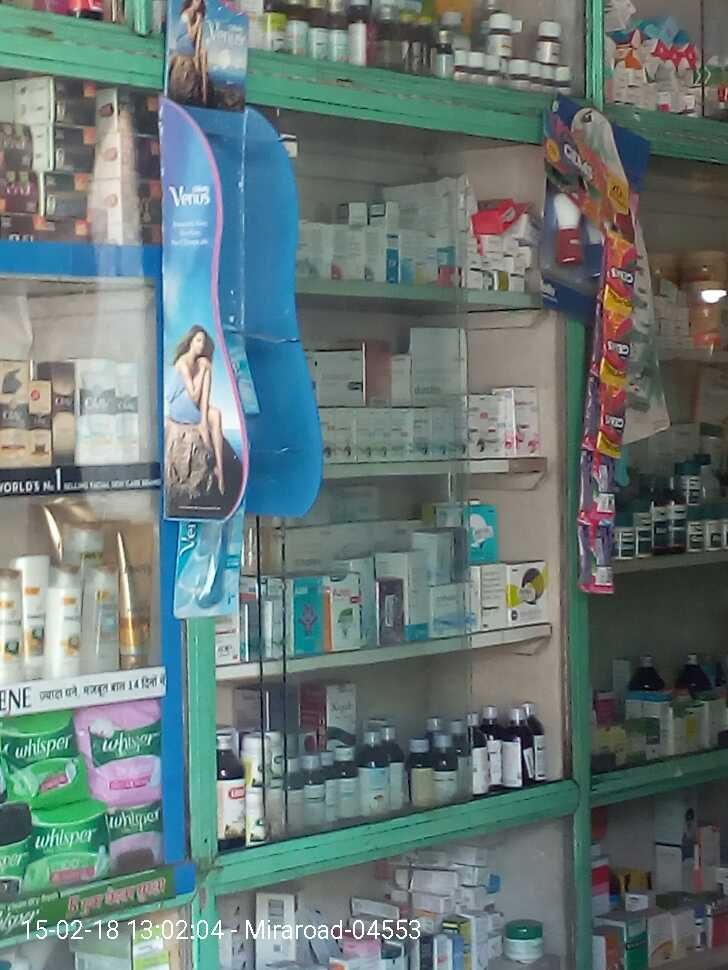beauty: (73, 354, 144, 475), (32, 357, 77, 468), (19, 559, 54, 681), (49, 568, 80, 679), (86, 575, 116, 669)
pharmacy: (82, 704, 170, 803), (26, 797, 110, 885), (8, 725, 98, 803), (98, 797, 172, 871)
